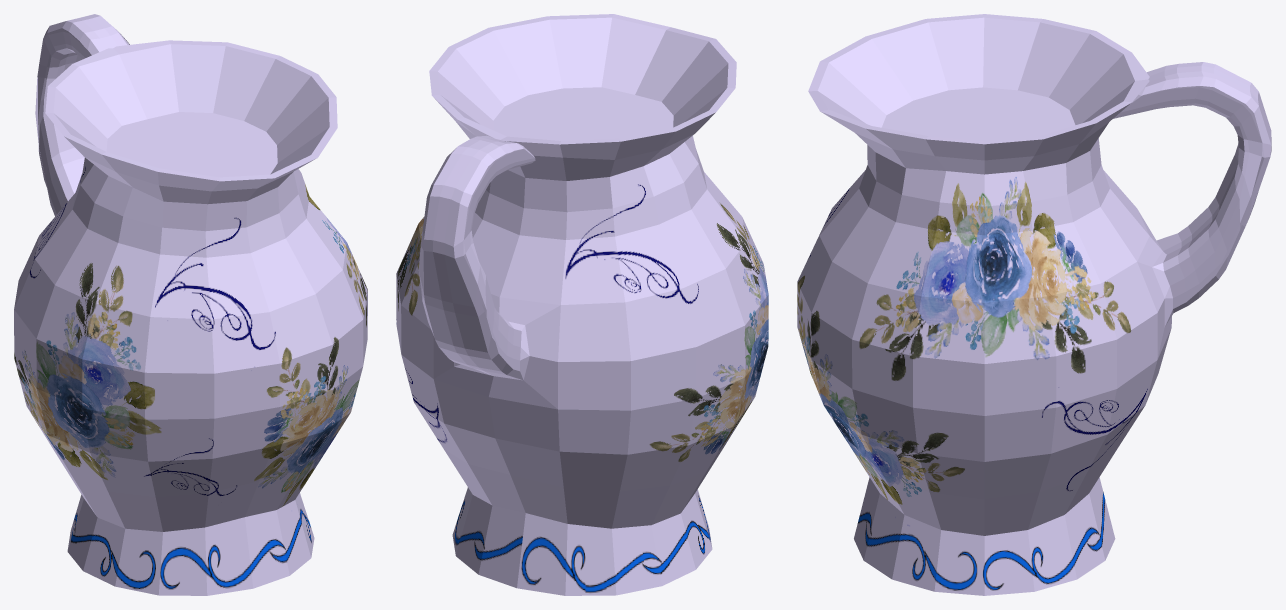
File: Jarro.fbx
The picture shows the model from 3 angles, left to right: view 1: azimuth 30°, elevation 25°; view 2: azimuth 150°, elevation 25°; view 3: azimuth 270°, elevation 25°; orthographic projection. The views are drawn at different scales.
Visible parts, largest first — view 1: Cylinder; view 2: Cylinder; view 3: Cylinder.
Boxes of the visible parts, x1,y1,x2,y2 form: Cylinder: (14, 14, 367, 595); Cylinder: (396, 14, 768, 595); Cylinder: (797, 14, 1271, 595).
Bounding box in the file's own units: 286 × 398 × 363.
